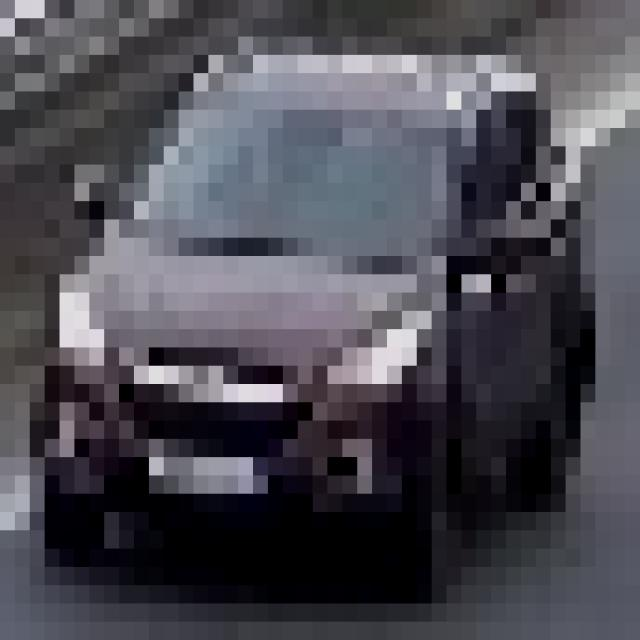SUV: (64, 90, 570, 542)
